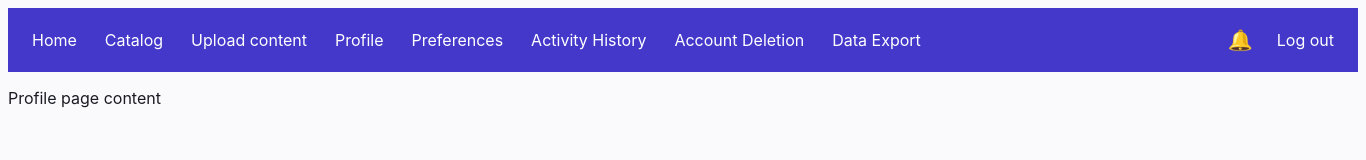
AppHeader › clicking 'Log out' clears the session and navigates to /login (Story 1.12, review finding — logout() existed since Story 1.1 but no page had ever wired it to a
The width and height of the screenshot is (1366, 160).
Click the button "Log out": coordinates (1305, 40) x1=1269 y1=26 x2=1342 y2=54
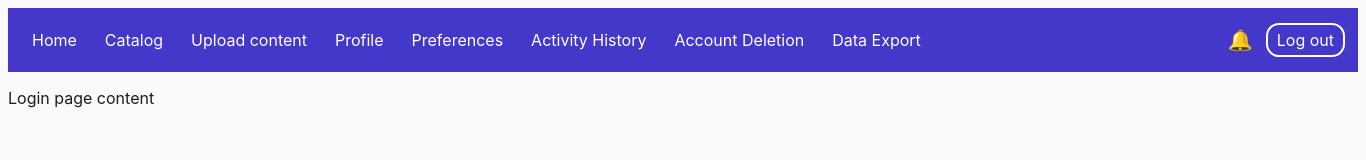
Now the text "Login page content" is shown, box x1=8 y1=88 x2=154 y2=108
